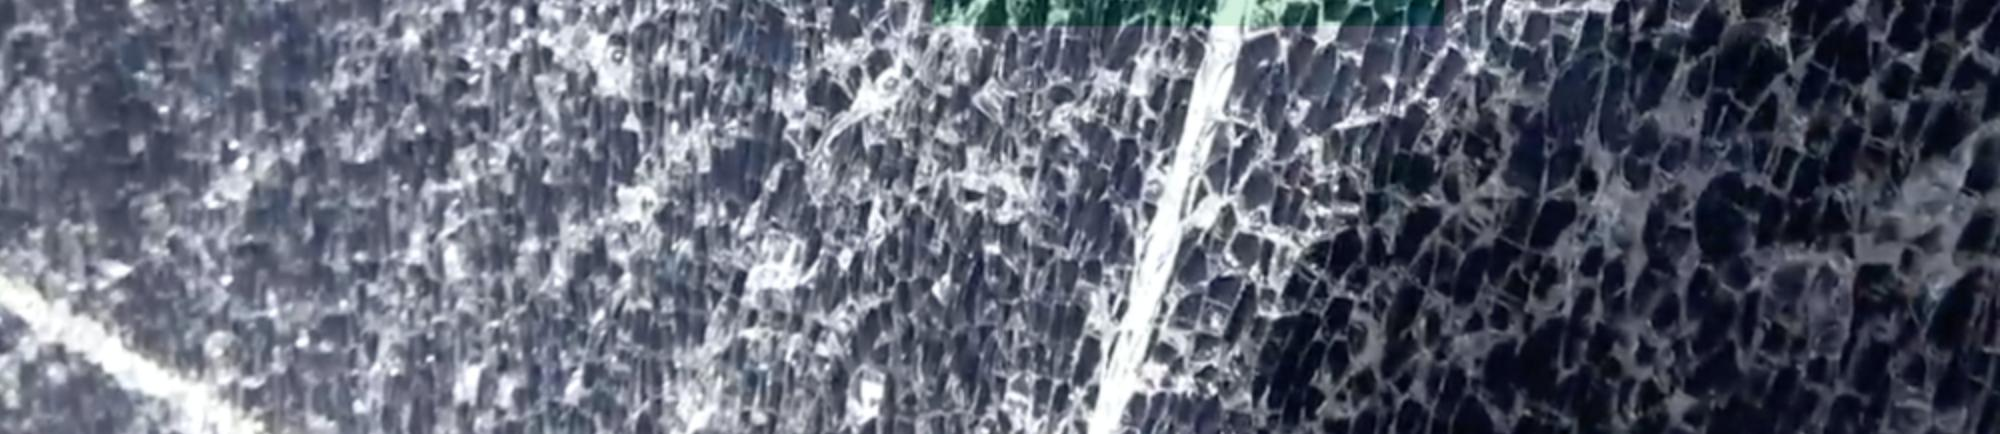Crack: (15, 4, 1989, 434)
